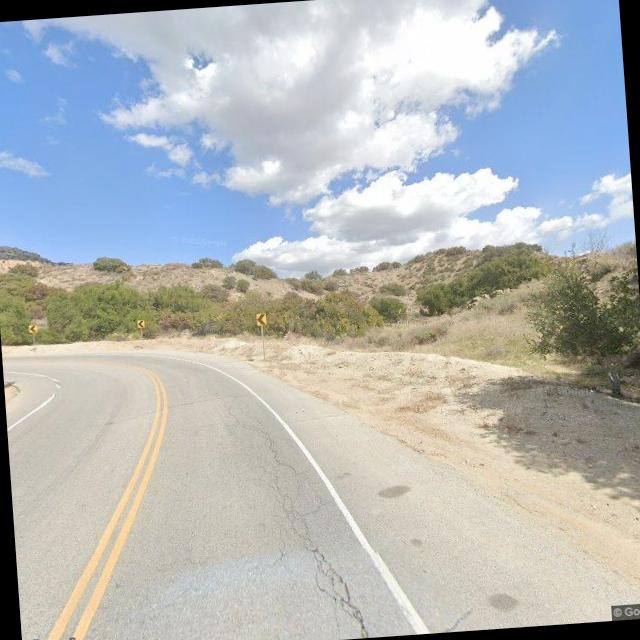pothole: (235, 398, 360, 638)
